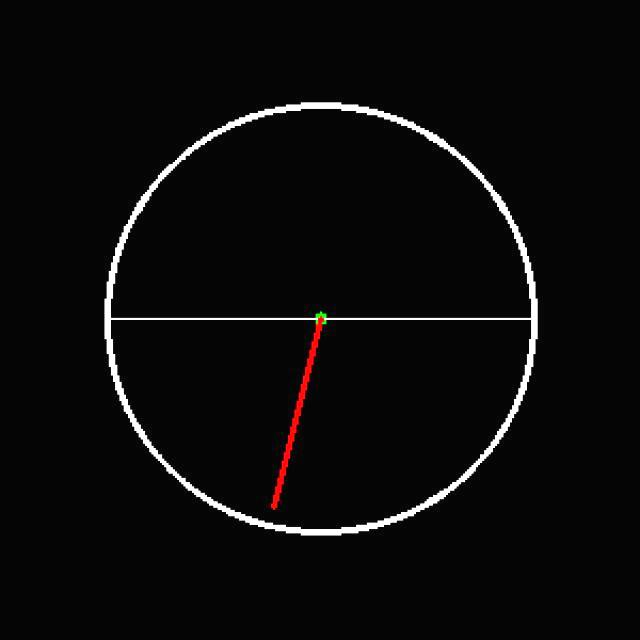Needle_Tip: (256, 481, 298, 528)
Needle_base: (285, 281, 358, 343)
